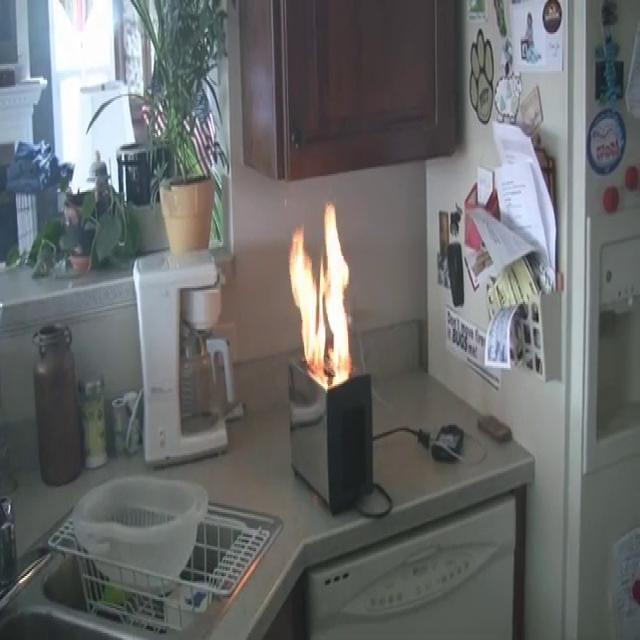fire: (274, 194, 360, 409)
